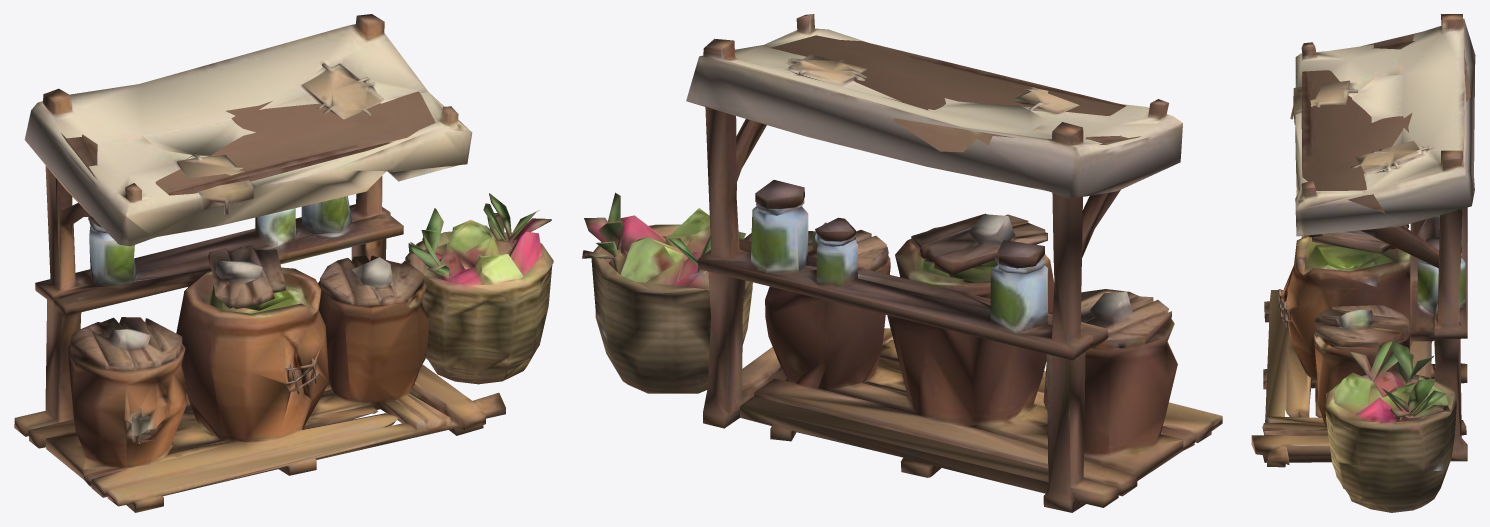
File: yancai-2.glb
3 views of the same model, side by side, from view 1: azimuth 30°, elevation 25°; view 2: azimuth 150°, elevation 25°; view 3: azimuth 270°, elevation 25° (orthographic). The views are drawn at different scales.
Parts seen in each view (by area): view 1: node_0; view 2: node_0; view 3: node_0.
Boxes of the visible parts, bbox=[...] form: node_0: bbox=[14, 14, 553, 512]; node_0: bbox=[582, 14, 1222, 512]; node_0: bbox=[1251, 14, 1475, 512].
Size of the model in its own units: 0.9886 by 0.6344 by 0.4186.
Materials: 1 (1 with a texture image).
